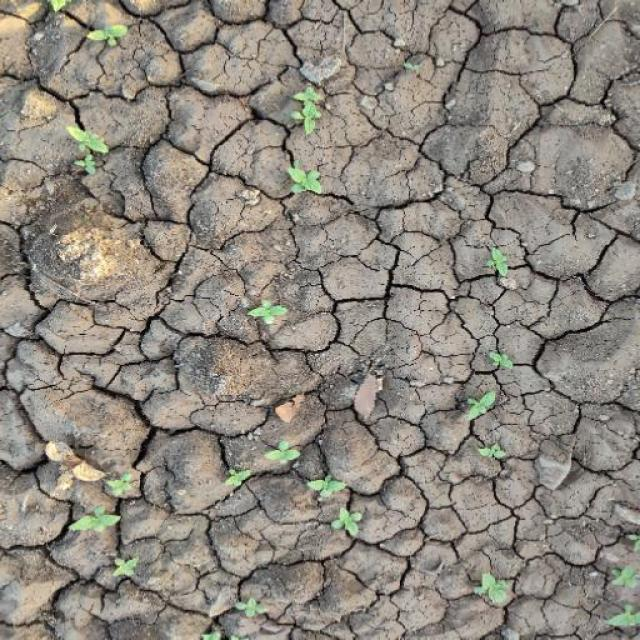crop: (62, 458, 152, 598), (262, 430, 366, 548), (465, 345, 521, 475), (284, 80, 334, 199), (59, 98, 111, 192), (235, 288, 290, 334), (476, 234, 519, 288)
